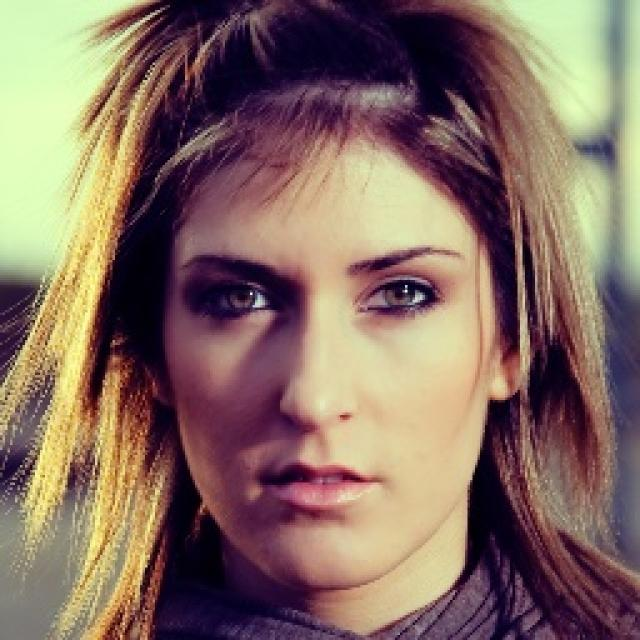earlobe: (491, 362, 526, 401)
eye: (363, 278, 441, 315), (206, 284, 274, 314)
nose: (272, 406, 361, 446)
